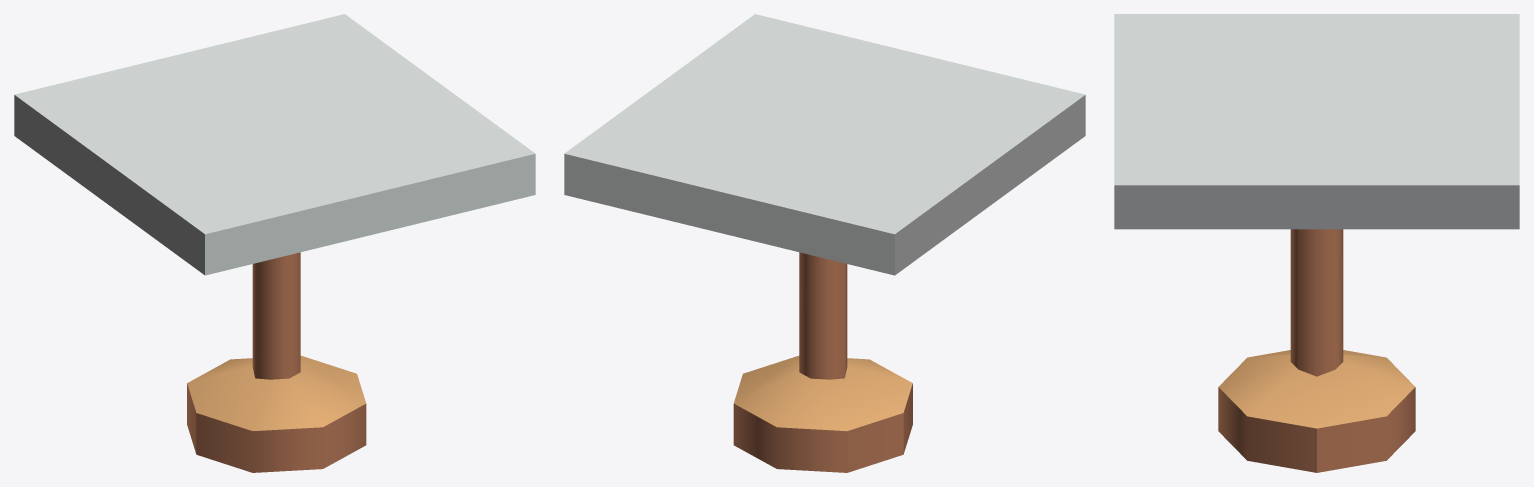
File: Table_01.fbx
3 renders of one model, left to right at view 1: azimuth 30°, elevation 25°; view 2: azimuth 150°, elevation 25°; view 3: azimuth 270°, elevation 25°, orthographic. The views are drawn at different scales.
Visible parts, largest first — view 1: Table_01; view 2: Table_01; view 3: Table_01.
Part boxes in pixels (bbox=[...]): Table_01: bbox=[14, 14, 535, 472]; Table_01: bbox=[564, 14, 1085, 472]; Table_01: bbox=[1114, 14, 1519, 472].
Size of the model in its own units: 39.37 by 35.43 by 39.37.
